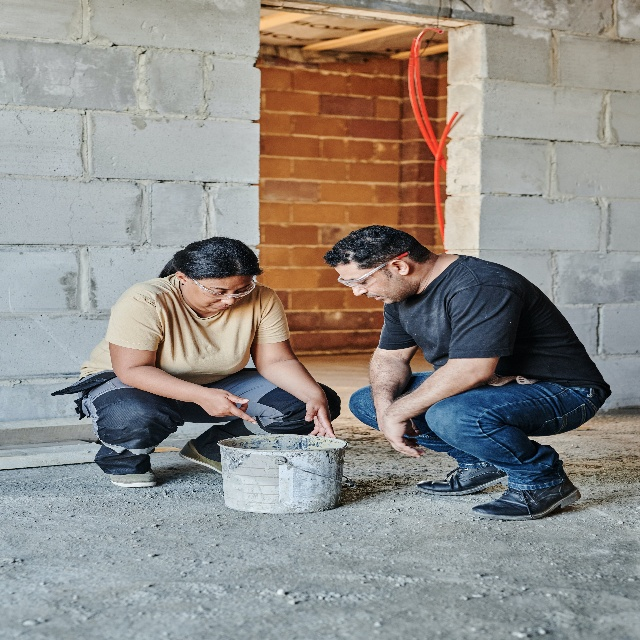Gafas: (338, 251, 411, 288), (192, 277, 256, 300)
Sin_guantes: (381, 409, 426, 458), (201, 386, 256, 424), (305, 398, 337, 439)
